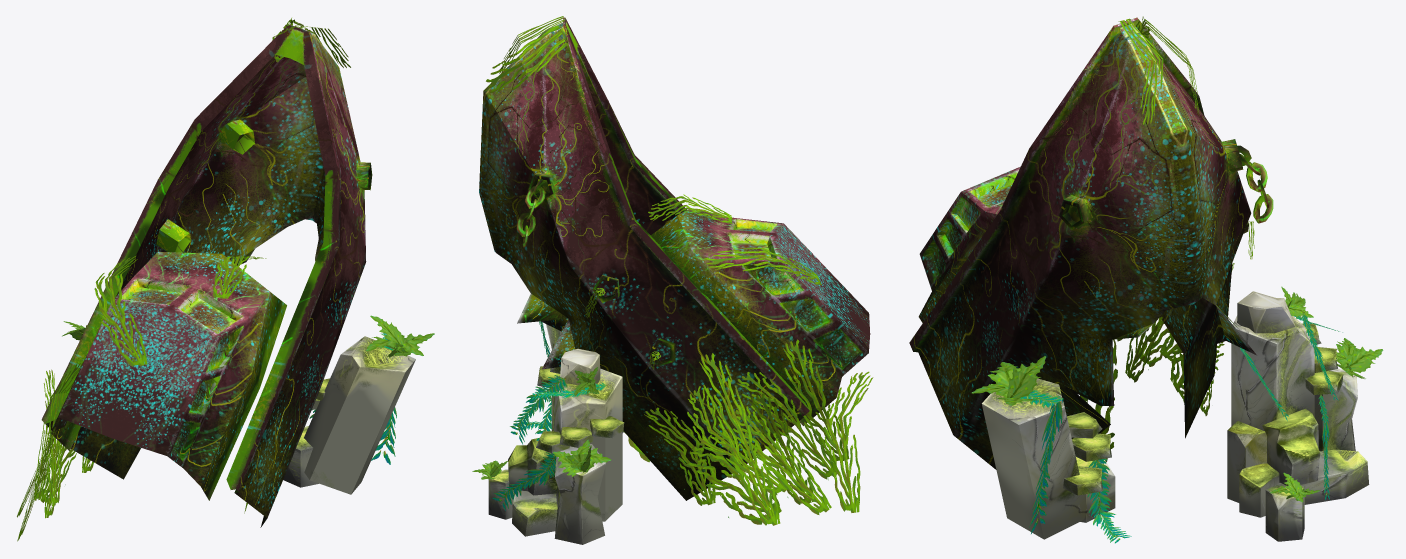
The model's file is ship_full 1.fbx.
3 renders of one model, left to right at view 1: azimuth 30°, elevation 25°; view 2: azimuth 150°, elevation 25°; view 3: azimuth 270°, elevation 25°, orthographic. The views are drawn at different scales.
Visible parts, largest first — view 1: shipstones; view 2: shipstones; view 3: shipstones.
Boxes of the visible parts, left/top/right/bottom form: shipstones: left=17, top=18, right=434, bottom=541; shipstones: left=472, top=16, right=873, bottom=544; shipstones: left=909, top=16, right=1383, bottom=543.
Size of the model in its own units: 2451 by 2801 by 2298.
